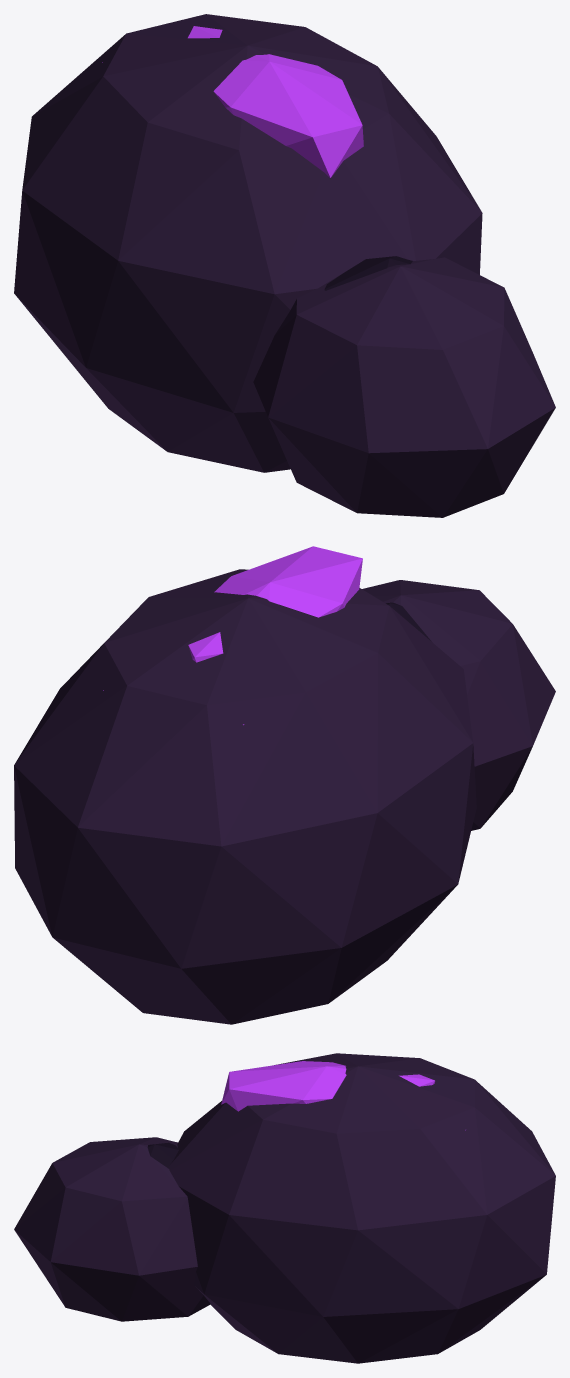
Rendered from spider_4_body.glb.
The picture shows the model from 3 angles, top to bottom: view 1: azimuth 30°, elevation 25°; view 2: azimuth 150°, elevation 25°; view 3: azimuth 270°, elevation 25°; orthographic projection. The views are drawn at different scales.
Parts seen in each view (by area): view 1: spider_4_body; view 2: spider_4_body; view 3: spider_4_body.
Boxes of the visible parts, x1,y1,x2,y2 form: spider_4_body: (14,14,555,517); spider_4_body: (14,546,555,1024); spider_4_body: (14,1053,555,1363).
Bounding box in the file's own units: 0.3964 × 0.4 × 0.6929.
